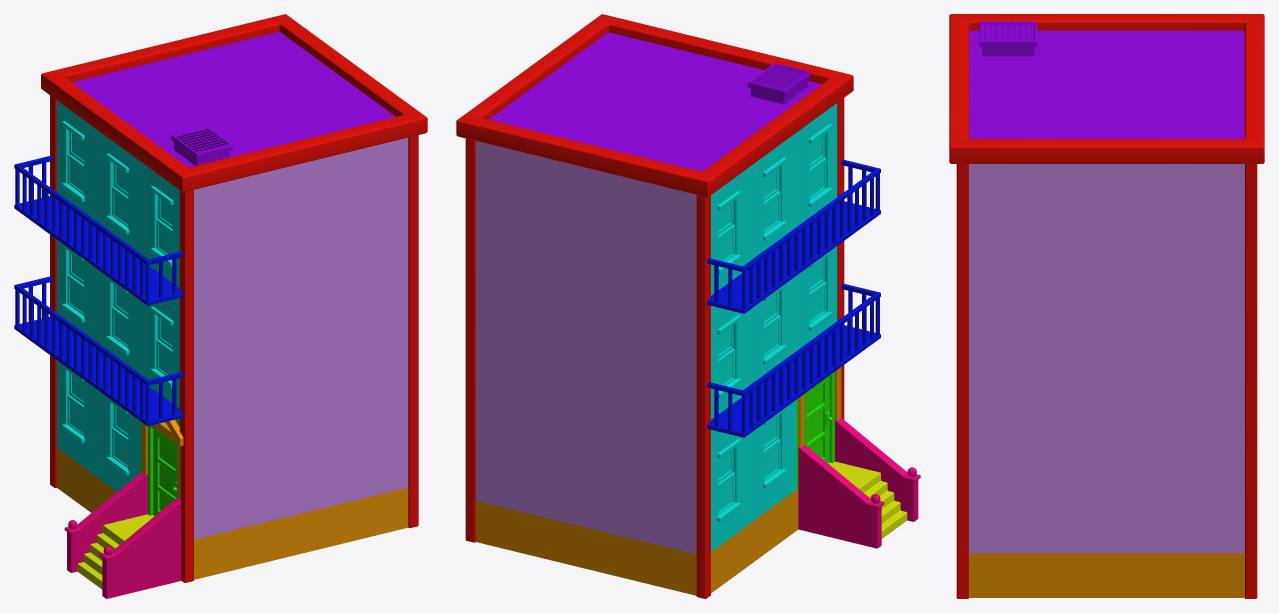
3 views of the same model, side by side, from view 1: azimuth 30°, elevation 25°; view 2: azimuth 150°, elevation 25°; view 3: azimuth 270°, elevation 25° (orthographic). The views are drawn at different scales.
Parts seen in each view (by area): view 1: Pared E2.051, Pared E2.048, Pared E2.054, Pared E2.049, Pared E2.052, Pared E2.047, Pared E2.050, Pared E2.055, Pared E2.053, Soporte barandilla entrada.006, Plane.248, Cube.189 (+57 smaller); view 2: Pared E2.057, Pared E2.060, Pared E2.063, Pared E2.058, Pared E2.059, Pared E2.056, Pared E2.061, Pared E2.062, Pared E2.064, Soporte barandilla entrada.007, Plane.248, Cube.306 (+54 smaller); view 3: Pared E2.039, Pared E2.042, Pared E2.045, Pared E2.038, Pared E2.040, Pared E2.041, Pared E2.043, Pared E2.044, Pared E2.046, Pared inferior.035, Plane.248, Pared inferior.034 (+27 smaller).
Boxes of the visible parts, x1,y1,x2,y2 form: Pared E2.051: (262,263,339,402); Pared E2.048: (262,384,339,522); Pared E2.054: (262,154,339,281); Pared E2.049: (339,367,408,504); Pared E2.052: (339,246,408,383); Pared E2.047: (194,402,262,539); Pared E2.050: (194,282,262,418); Pared E2.055: (339,137,408,262); Pared E2.053: (194,173,262,298); Soporte barandilla entrada.006: (102,503,181,598); Plane.248: (174,77,294,128); Cube.189: (133,138,266,192); Pared E2.057: (547,394,625,537); Pared E2.060: (547,270,625,413); Pared E2.063: (547,158,625,289); Pared E2.058: (476,377,546,517); Pared E2.059: (626,289,696,430); Pared E2.056: (626,413,696,554); Pared E2.061: (476,253,546,393); Pared E2.062: (626,177,696,306); Pared E2.064: (476,141,546,269); Soporte barandilla entrada.007: (798,448,881,548); Plane.248: (593,79,716,131); Cube.306: (621,141,758,197); Pared E2.039: (1057,419,1156,553); Pared E2.042: (1057,285,1156,419); Pared E2.045: (1057,164,1156,285); Pared E2.038: (969,419,1057,553); Pared E2.040: (1156,419,1244,553); Pared E2.041: (969,285,1057,419); Pared E2.043: (1156,285,1244,419); Pared E2.044: (969,164,1057,285); Pared E2.046: (1156,164,1244,285); Pared inferior.035: (1057,553,1156,597); Plane.248: (1057,68,1156,109); Pared inferior.034: (969,553,1057,597).
Bounding box in the file's own units: 824 × 1036 × 641.
